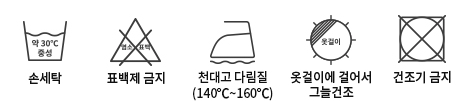KR_hand_wash_30_neutral: (20, 15, 69, 65)
KR_hang_dry_in_shade: (304, 13, 358, 64)
KR_no_chlorine_bleach: (106, 13, 164, 68)
KR_no_tumble_dry: (394, 11, 448, 67)
